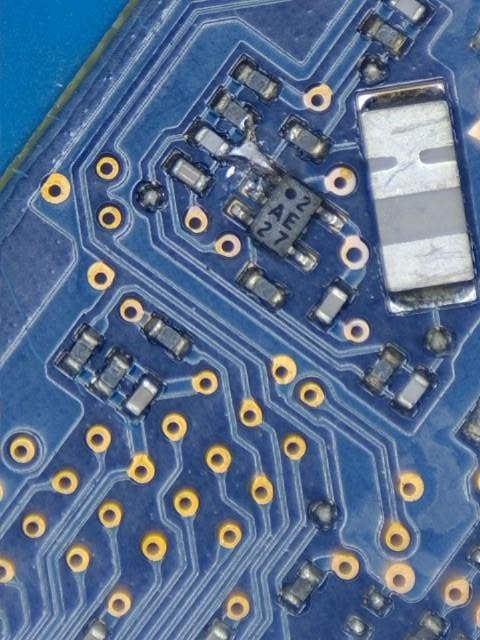pcb_defect: (215, 114, 276, 198)
